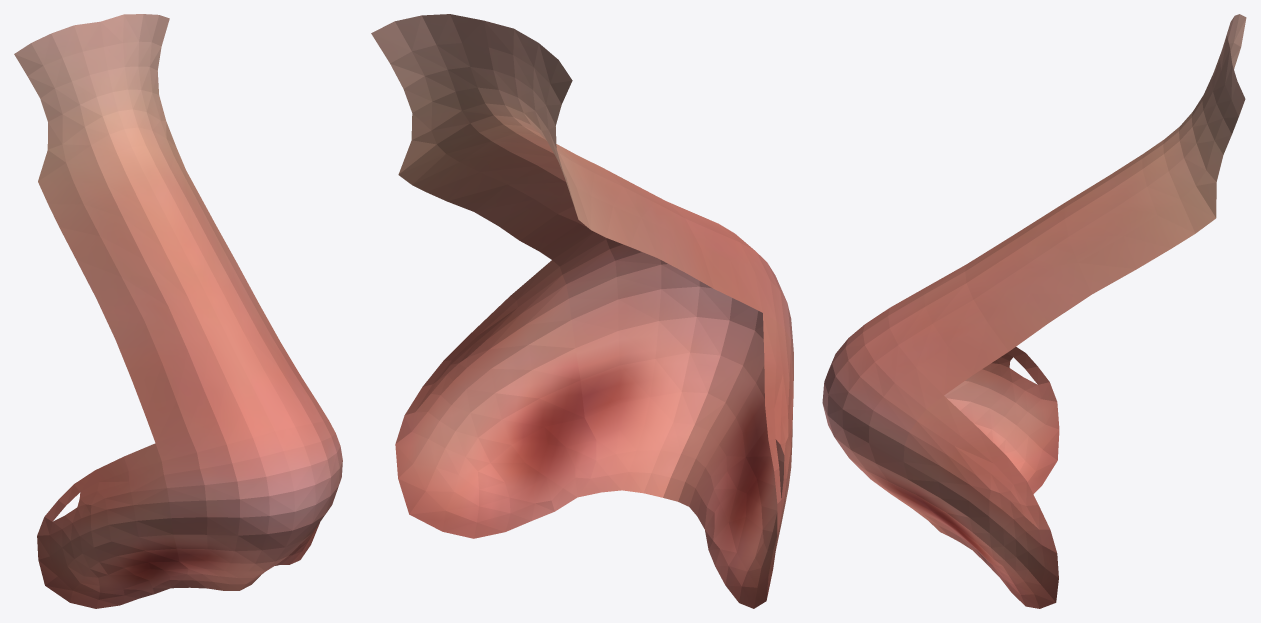
File: euro-nose-fem-avg.obj
The picture shows the model from 3 angles, left to right: view 1: azimuth 30°, elevation 25°; view 2: azimuth 150°, elevation 25°; view 3: azimuth 270°, elevation 25°; orthographic projection. The views are drawn at different scales.
Parts seen in each view (by area): view 1: euro-nose-fem-avg.001; view 2: euro-nose-fem-avg.001; view 3: euro-nose-fem-avg.001.
Part boxes in pixels (x1,y1,x2,y2): euro-nose-fem-avg.001: (14,14,342,608); euro-nose-fem-avg.001: (371,14,793,608); euro-nose-fem-avg.001: (822,14,1246,608).
Size of the model in its own units: 0.415 by 0.6686 by 0.4951.
Materials: 1 (1 with a texture image).
